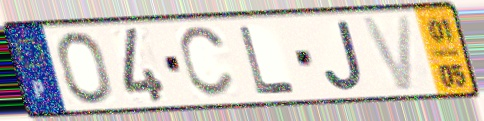4: (121, 24, 169, 105)
C: (176, 24, 238, 101)
J: (321, 18, 366, 93)
L: (236, 24, 300, 96)
O: (54, 30, 115, 107)
V: (358, 13, 417, 94)
